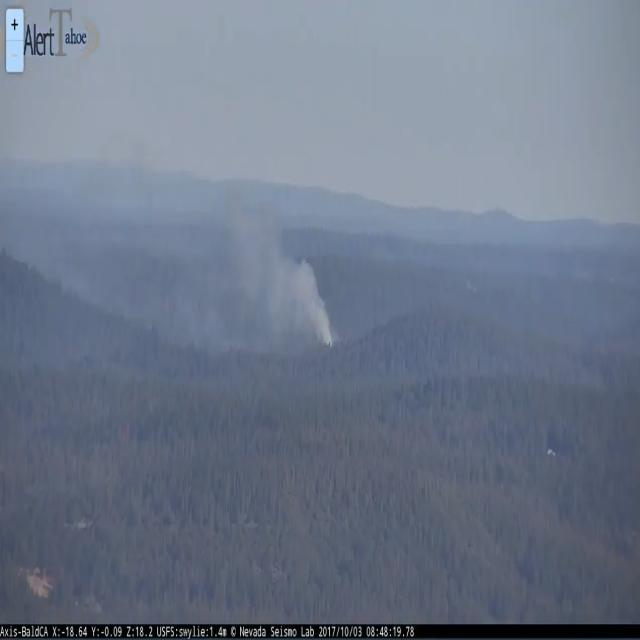smoke: (232, 190, 335, 354)
